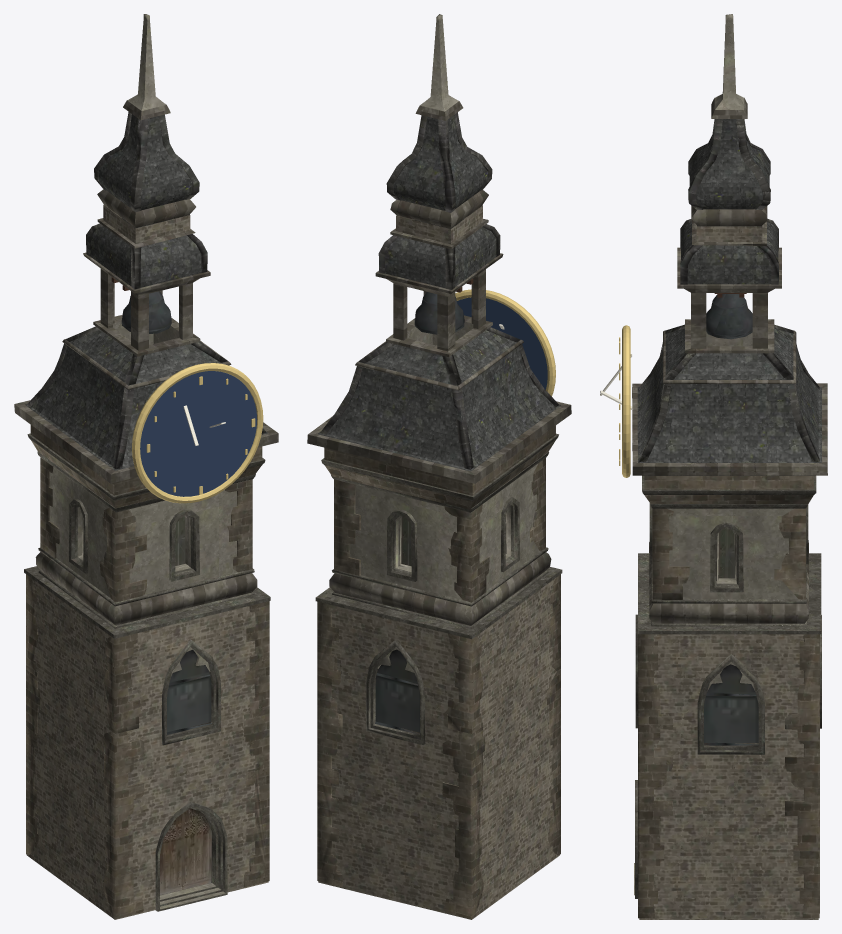
The model's file is stopwatch_diorama.glb.
The picture shows the model from 3 angles, left to right: view 1: azimuth 30°, elevation 25°; view 2: azimuth 150°, elevation 25°; view 3: azimuth 270°, elevation 25°; orthographic projection.
Parts seen in each view (by area): view 1: KB3D_DKF_Tower_C_Main, Cylinder, Torus; view 2: KB3D_DKF_Tower_C_Main, Cylinder, Torus; view 3: KB3D_DKF_Tower_C_Main, Torus.
Part boxes in pixels (x1=…): KB3D_DKF_Tower_C_Main: x1=14, y1=14, x2=278, y2=919; Cylinder: x1=140, y1=371, x2=257, y2=496; Torus: x1=132, y1=363, x2=263, y2=503; KB3D_DKF_Tower_C_Main: x1=307, y1=14, x2=571, y2=919; Cylinder: x1=457, y1=297, x2=547, y2=389; Torus: x1=455, y1=289, x2=555, y2=396; KB3D_DKF_Tower_C_Main: x1=632, y1=14, x2=827, y2=919; Torus: x1=622, y1=325, x2=630, y2=477.
Bounding box in the file's own units: 4.1 × 19.86 × 4.73.
Materials: 17 (14 with a texture image).
